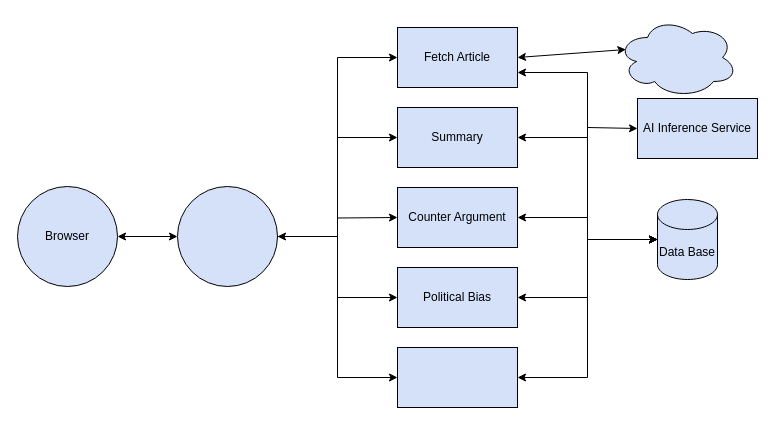
Some shapes in this 775 by 425 pixel diagram are drawn without their labels. Each missing label, with the centre of its shape:
"Fake News" belongs at pixel 457 377.
"Gateway" belongs at pixel 227 236.
"News Service Provider" belongs at pixel 677 57.
